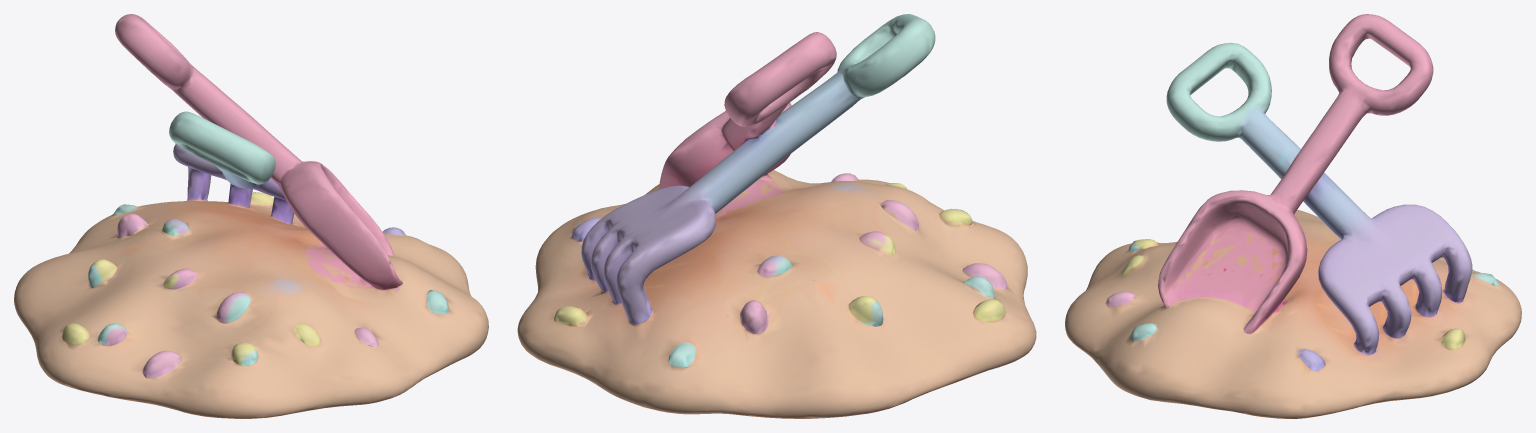
3 renders of one model, left to right at view 1: azimuth 30°, elevation 25°; view 2: azimuth 150°, elevation 25°; view 3: azimuth 270°, elevation 25°, orthographic. The views are drawn at different scales.
Visible parts, largest first — view 1: repaired; view 2: repaired; view 3: repaired.
Boxes of the visible parts, x1=… form: repaired: x1=14, y1=14, x2=488, y2=418; repaired: x1=517, y1=14, x2=1036, y2=418; repaired: x1=1065, y1=14, x2=1521, y2=418.
Size of the model in its own units: 0.9982 by 0.6766 by 0.9995.
Materials: 1 (1 with a texture image).
